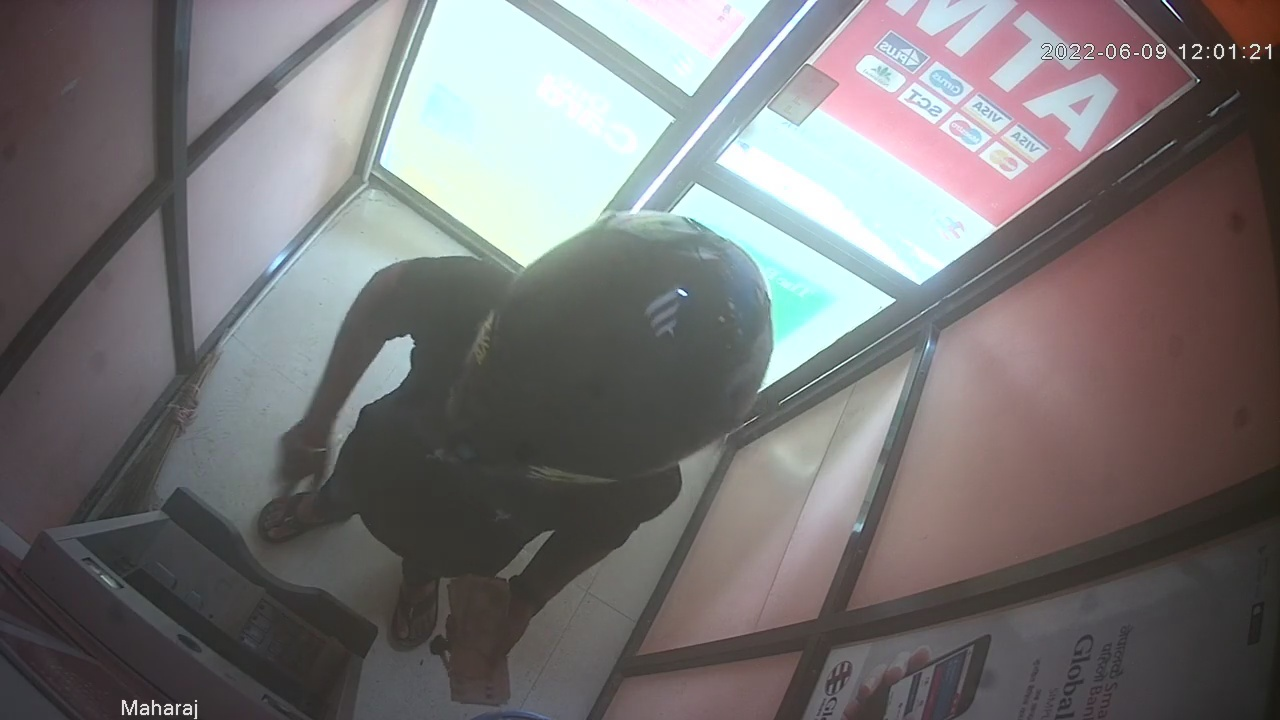helmet: (447, 210, 774, 491)
person: (254, 209, 775, 709)
